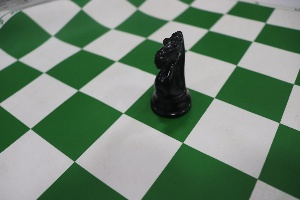black_horse: (140, 21, 197, 123)
